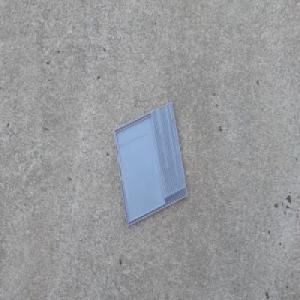PlasticPart: (112, 100, 188, 228)
